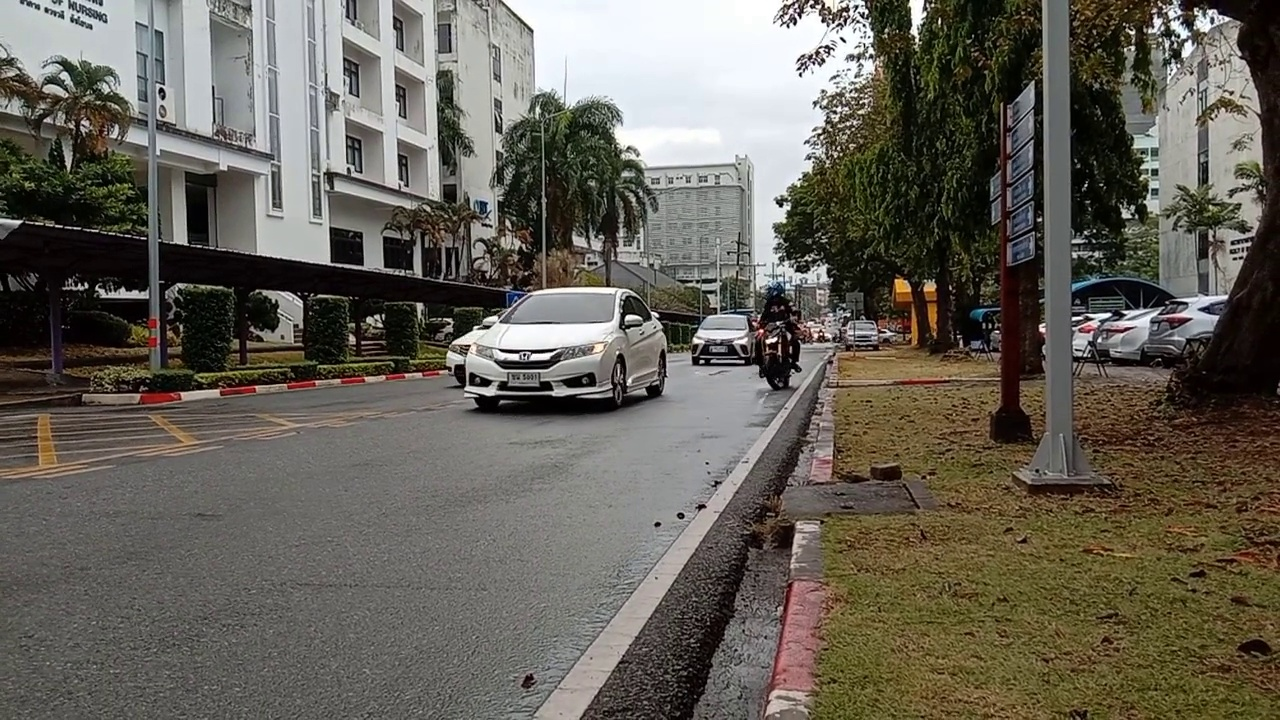License Plate: (507, 370, 538, 388)
